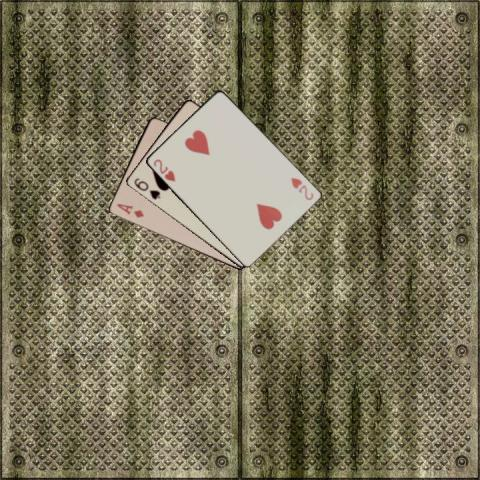2h: (150, 156, 177, 183), (287, 175, 315, 201)
6s: (131, 175, 161, 201)
Ad: (114, 201, 146, 219)
